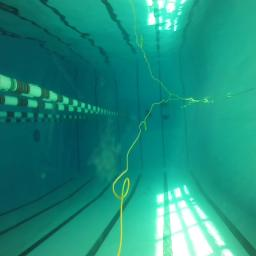Full: (162, 115, 170, 119)
